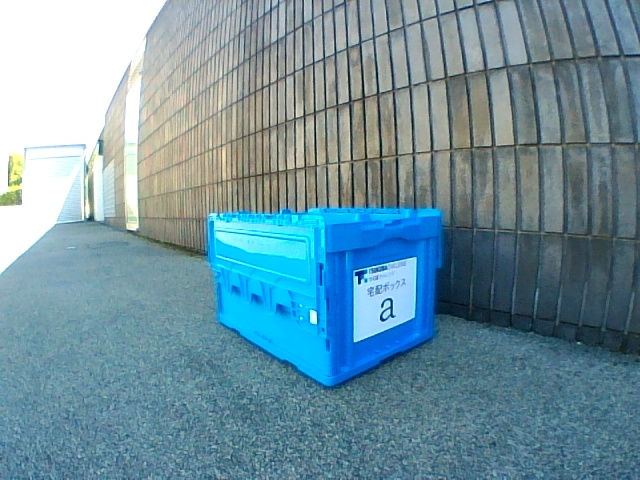blue_box: (208, 207, 442, 386)
tag_a: (368, 283, 403, 322)
